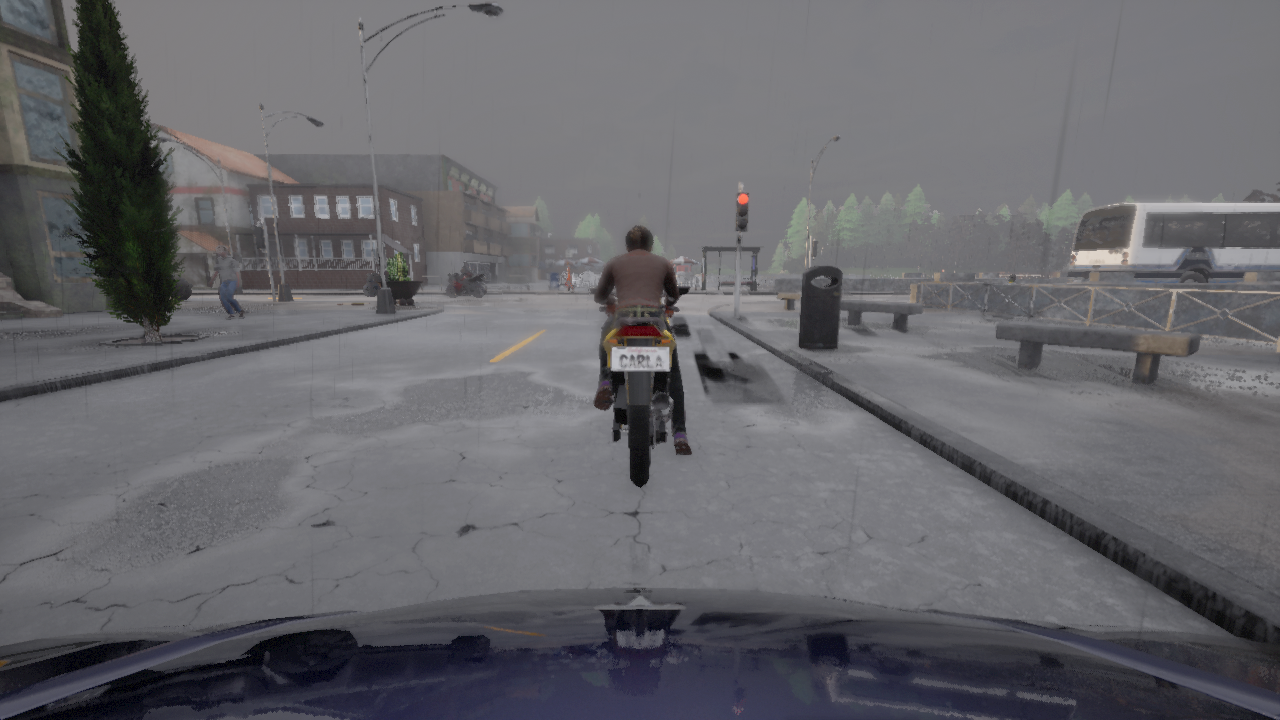cyclist: (0, 588, 1279, 719), (589, 287, 689, 488), (1066, 202, 1279, 283), (446, 273, 485, 296), (175, 275, 192, 298), (364, 273, 380, 295)
pedestrian: (209, 245, 244, 318), (564, 261, 574, 291), (1008, 275, 1015, 283)
